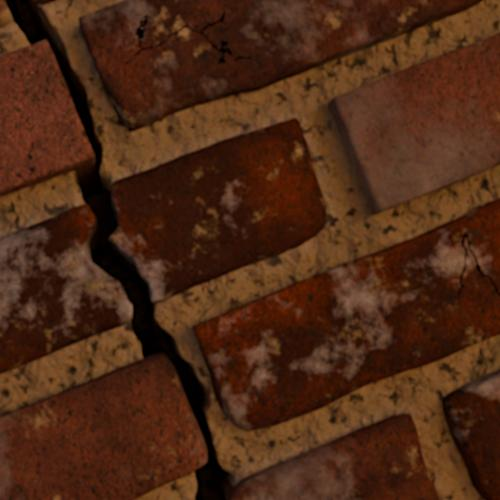brick: (193, 199, 499, 430), (79, 0, 481, 130), (329, 33, 499, 213), (0, 357, 205, 499), (0, 41, 93, 196), (443, 370, 499, 499)
broken_brick: (111, 117, 326, 303), (0, 204, 130, 374), (231, 412, 439, 499), (0, 0, 12, 28), (37, 0, 55, 4)
crack: (1, 0, 235, 499), (455, 232, 499, 304)
